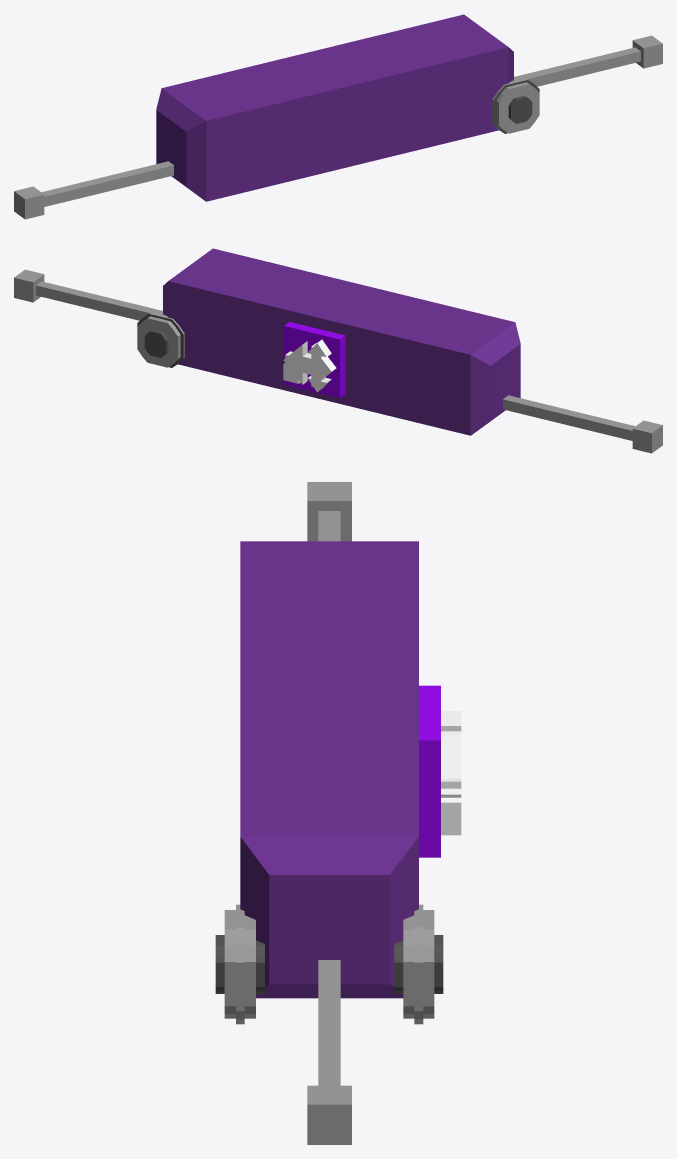
File: Platform with New arrow.fbx
3 renders of one model, top to bottom at view 1: azimuth 30°, elevation 25°; view 2: azimuth 150°, elevation 25°; view 3: azimuth 270°, elevation 25°, orthographic. The views are drawn at different scales.
Parts seen in each view (by area): view 1: Platform Body, Platform Edge, Path, Hinge_1, End 2, End 1, Hinge Interior_1, Hinge Exterior_1; view 2: Platform Body, Platform Edge, Path, Side arrow Square, Hinge, End 2, End 1, Improved Curved Arrow_1, Improved Curved Arrow, Hinge Interior, Left Arrow, Hinge Exterior; view 3: Platform Body, Platform Edge_1, Side arrow Square, Path, End 1, Hinge_1, Hinge, End 2, Hinge Exterior, Hinge Interior, Left Arrow, Hinge Exterior_1 (+1 smaller).
Part boxes in pixels (left/top/right/bottom): Platform Body: left=162, top=14, right=508, bottom=201; Platform Edge: left=156, top=88, right=206, bottom=201; Path: left=41, top=47, right=640, bottom=206; Hinge_1: left=496, top=78, right=539, bottom=133; End 2: left=14, top=186, right=44, bottom=219; End 1: left=632, top=35, right=662, bottom=68; Hinge Interior_1: left=508, top=95, right=532, bottom=123; Hinge Exterior_1: left=492, top=78, right=539, bottom=133; Platform Body: left=168, top=248, right=514, bottom=435; Platform Edge: left=470, top=322, right=520, bottom=435; Path: left=36, top=281, right=635, bottom=440; Side arrow Square: left=284, top=322, right=345, bottom=397; Hinge: left=137, top=312, right=180, bottom=367; End 2: left=632, top=420, right=662, bottom=453; End 1: left=14, top=269, right=44, bottom=302; Improved Curved Arrow_1: left=285, top=339, right=331, bottom=392; Improved Curved Arrow: left=283, top=343, right=330, bottom=386; Hinge Interior: left=144, top=329, right=168, bottom=357; Left Arrow: left=283, top=341, right=307, bottom=384; Hinge Exterior: left=137, top=312, right=184, bottom=367; Platform Body: left=240, top=541, right=418, bottom=836; Platform Edge_1: left=240, top=836, right=418, bottom=998; Side arrow Square: left=419, top=685, right=440, bottom=857; Path: left=318, top=511, right=340, bottom=1085; End 1: left=307, top=1085, right=351, bottom=1144; Hinge_1: left=224, top=910, right=255, bottom=1018; Hinge: left=403, top=910, right=434, bottom=1018; End 2: left=307, top=482, right=351, bottom=541; Hinge Exterior: left=414, top=904, right=423, bottom=1024; Hinge Interior: left=394, top=935, right=443, bottom=993; Left Arrow: left=441, top=735, right=461, bottom=796; Hinge Exterior_1: left=236, top=904, right=244, bottom=1024.
Bounding box in the file's own units: 103 × 13.12 × 17.19.
Materials: 6 (6 with a texture image).
